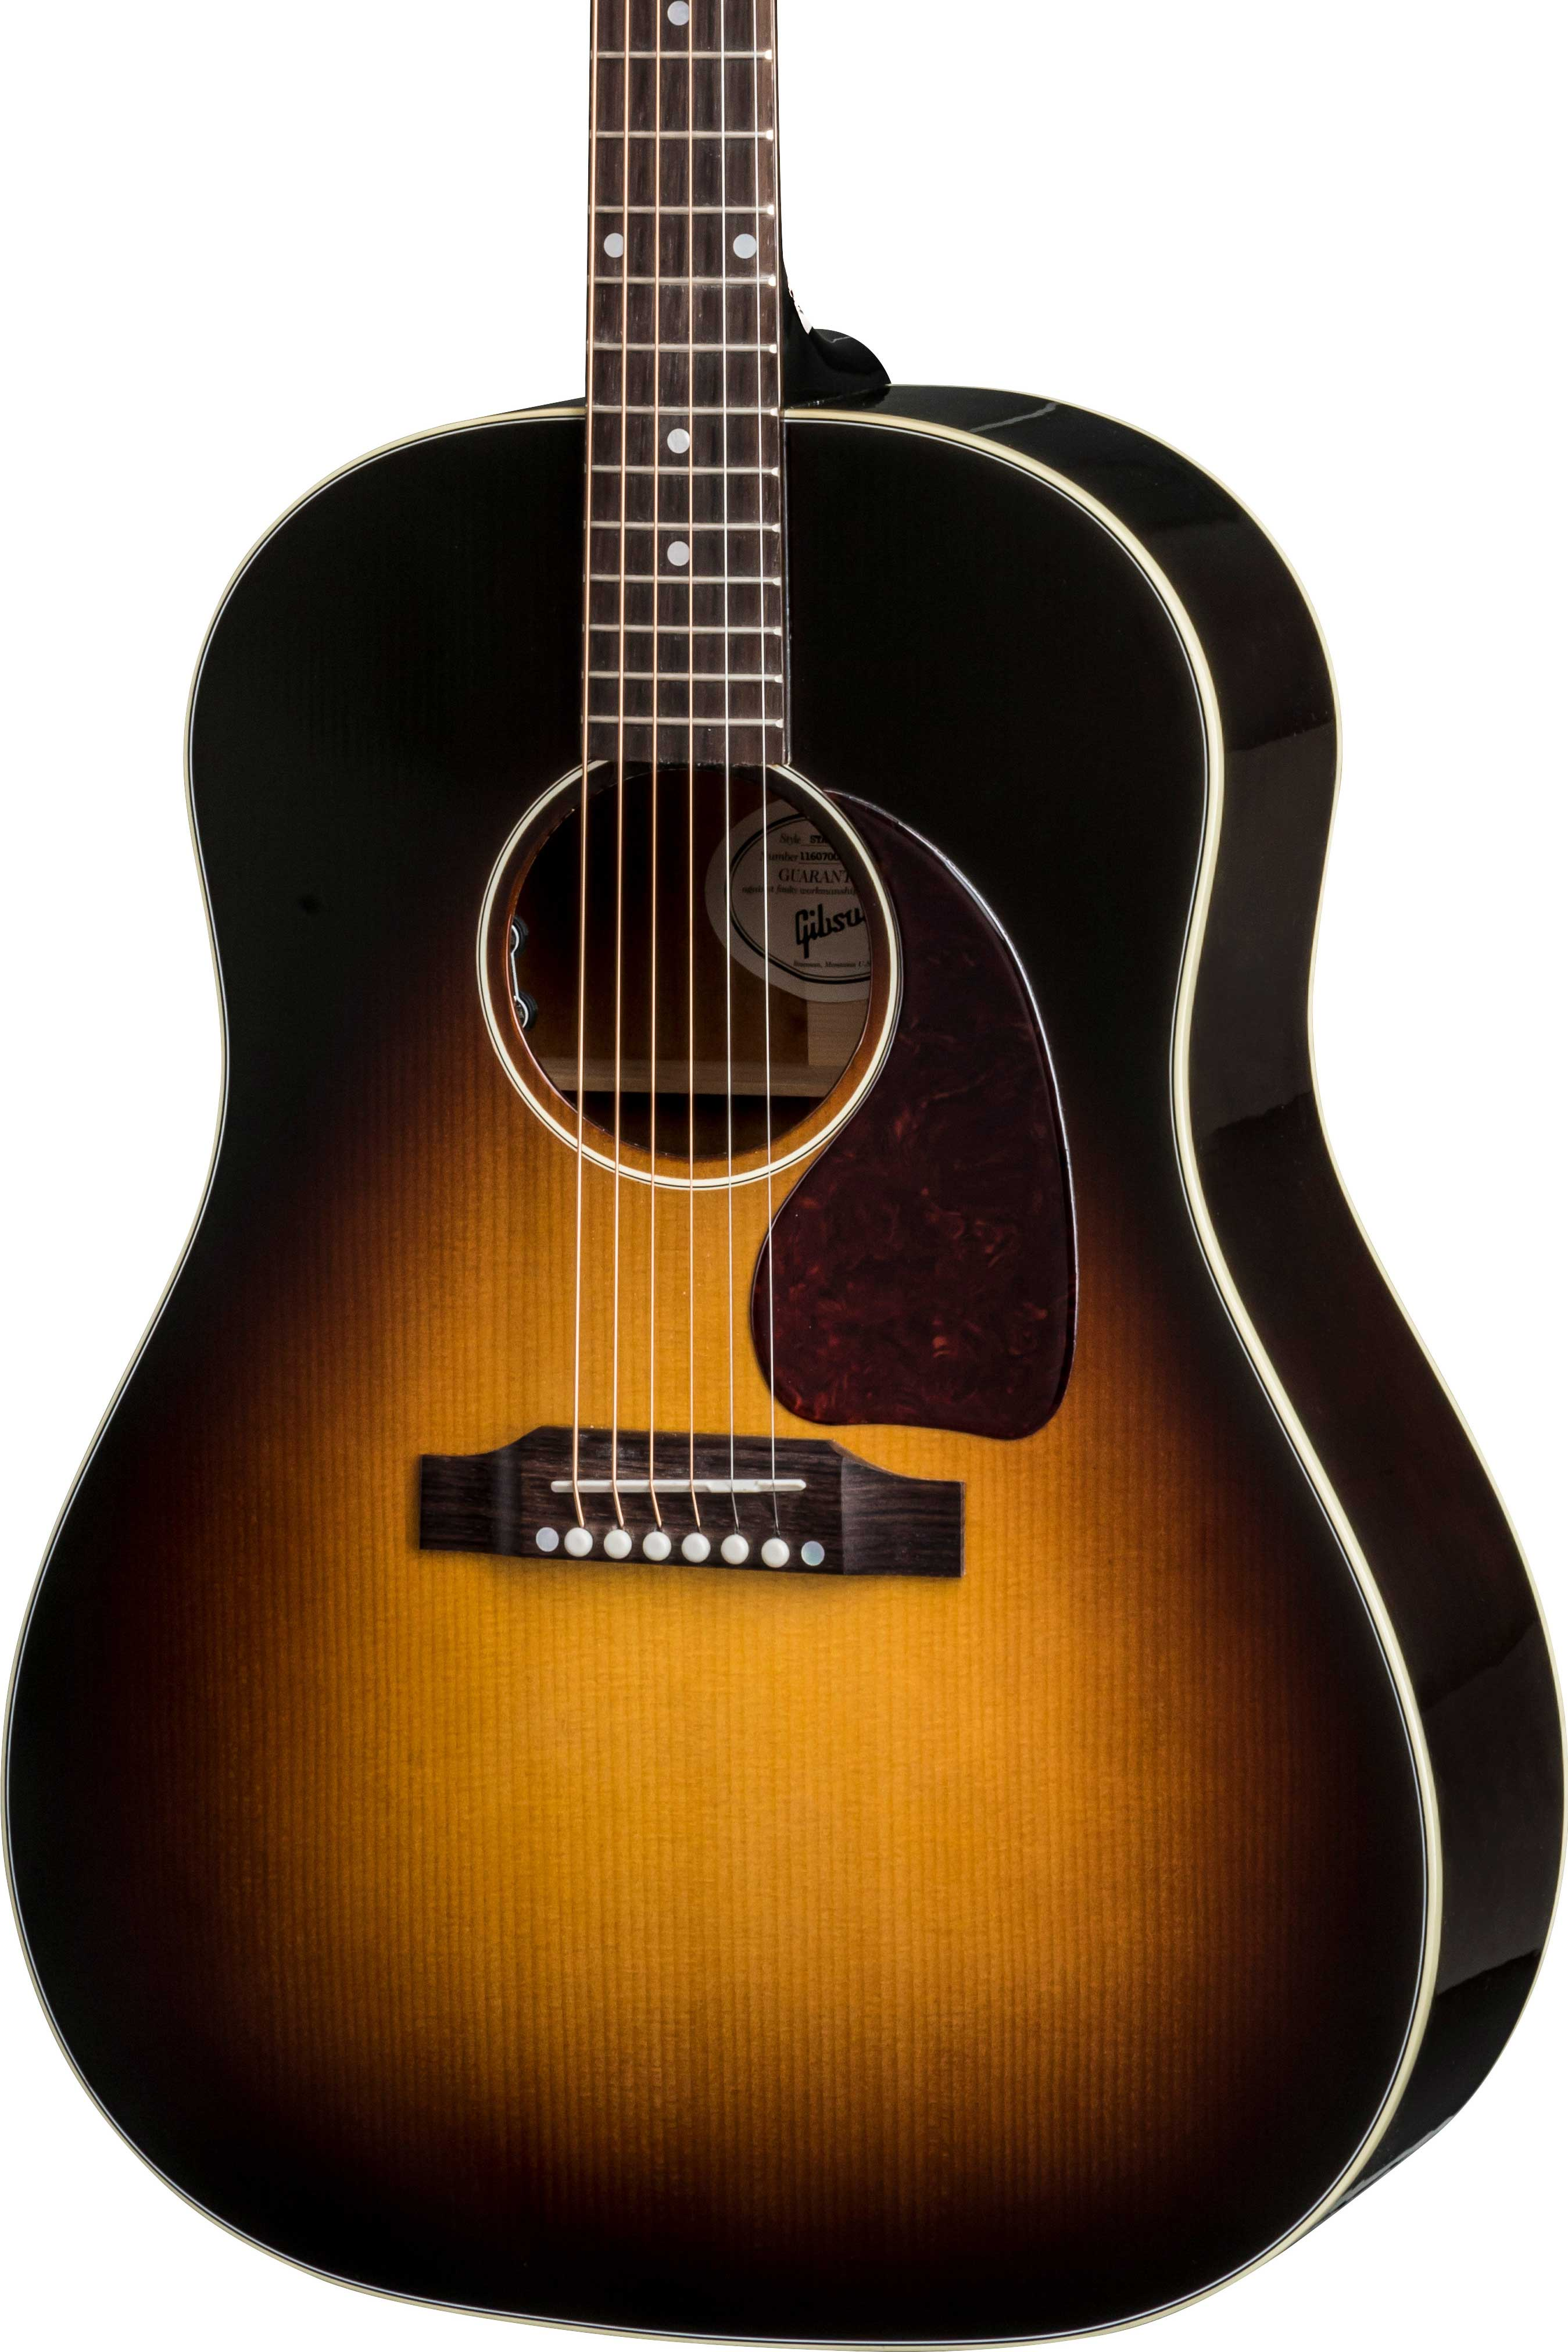guitar: (62, 113, 1558, 2332)
